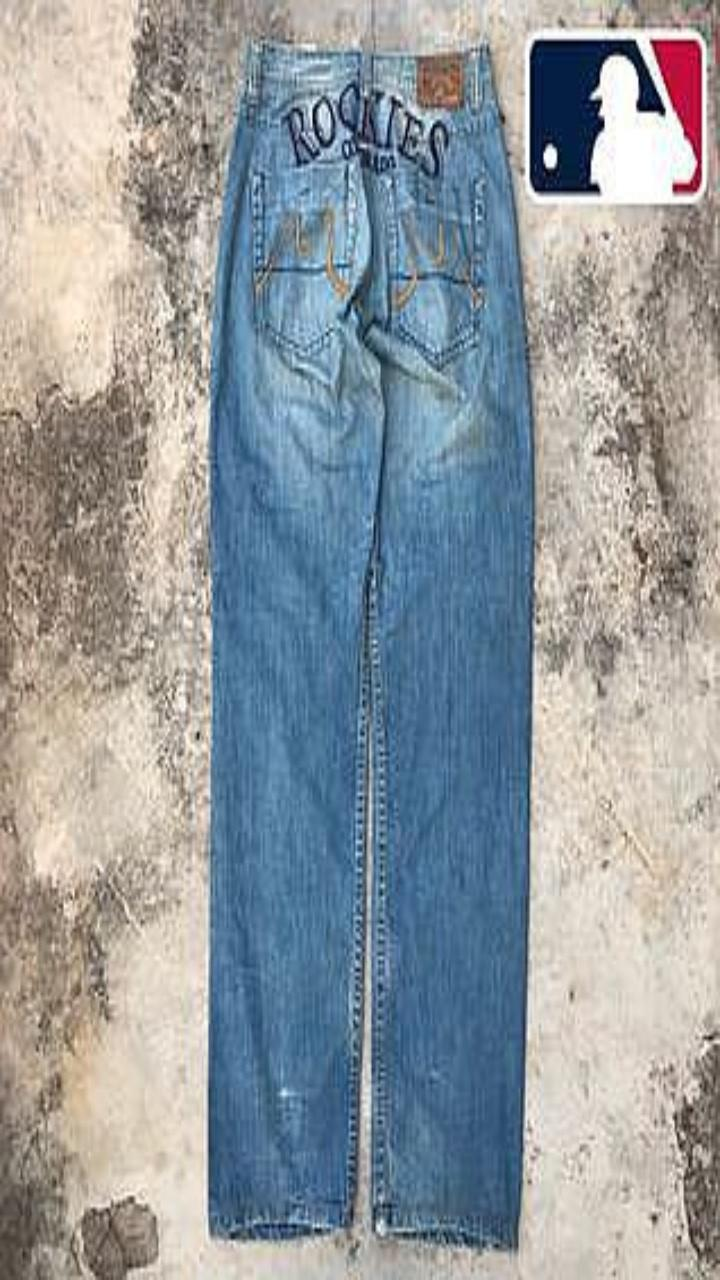Jeans: (208, 36, 533, 1247)
